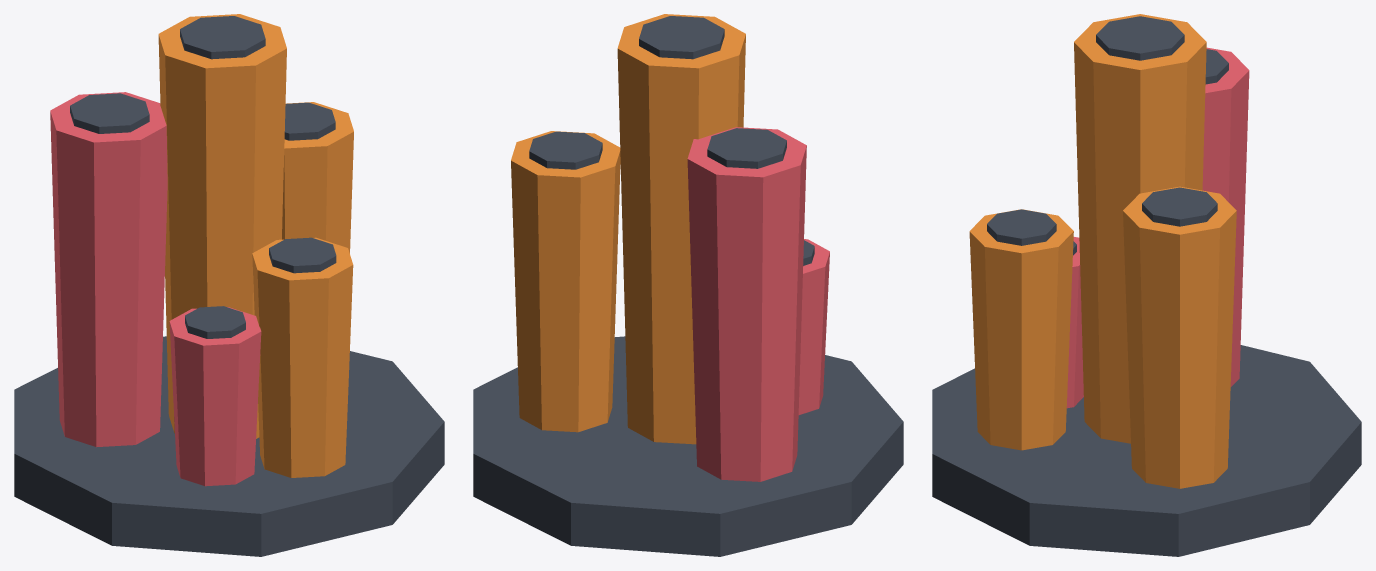
File: coral_tube.glb
The picture shows the model from 3 angles, left to right: view 1: azimuth 30°, elevation 25°; view 2: azimuth 150°, elevation 25°; view 3: azimuth 270°, elevation 25°; orthographic projection.
Visible parts, largest first — view 1: coral_tube; view 2: coral_tube; view 3: coral_tube.
Boxes of the visible parts, x1,y1,x2,y2 form: coral_tube: (14,14,444,556); coral_tube: (473,14,903,556); coral_tube: (932,14,1361,556).
Bounding box in the file's own units: 0.5515 × 0.6 × 0.5431.
